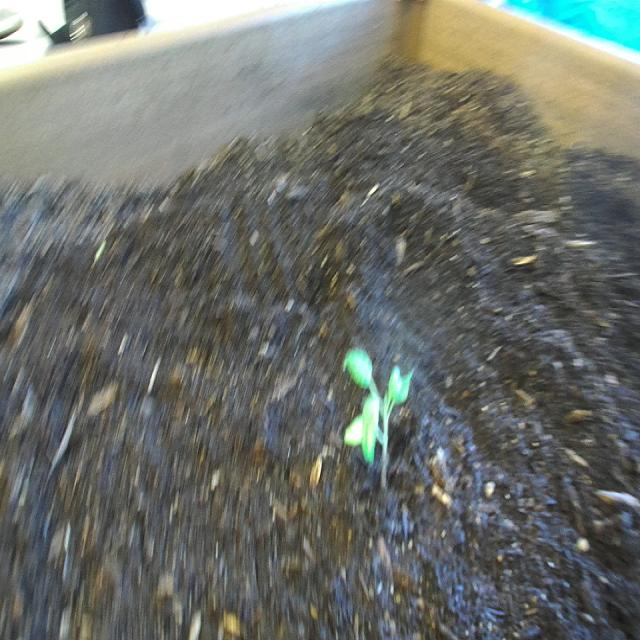Healthy: (339, 336, 420, 495)
